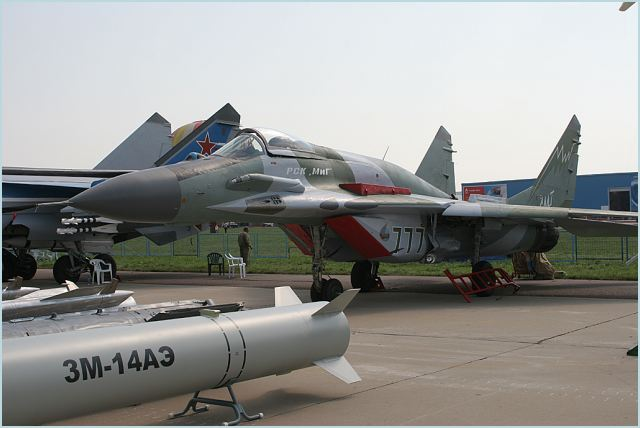Mig-29: (69, 91, 615, 336)
